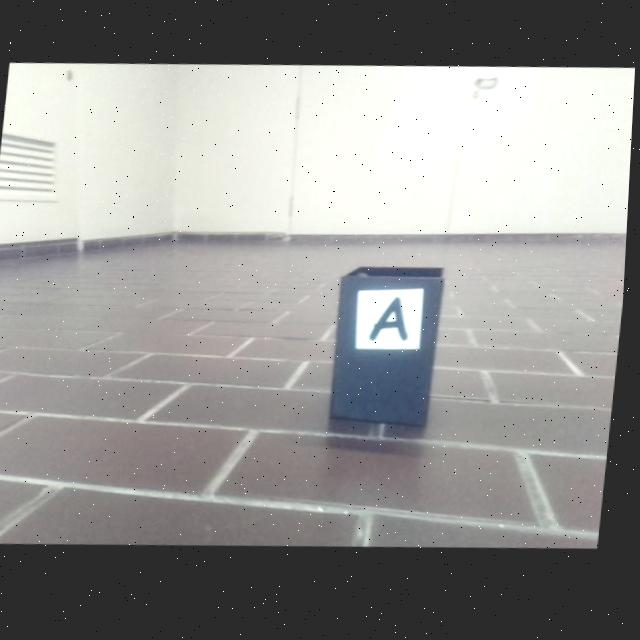A: (373, 299, 413, 346)
